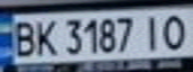1: (81, 15, 100, 54)
3: (60, 16, 84, 56)
7: (115, 14, 139, 53)
8: (97, 15, 118, 54)
B: (6, 18, 39, 57)
I: (139, 11, 166, 52)
K: (30, 16, 57, 57)
O: (157, 11, 193, 51)
